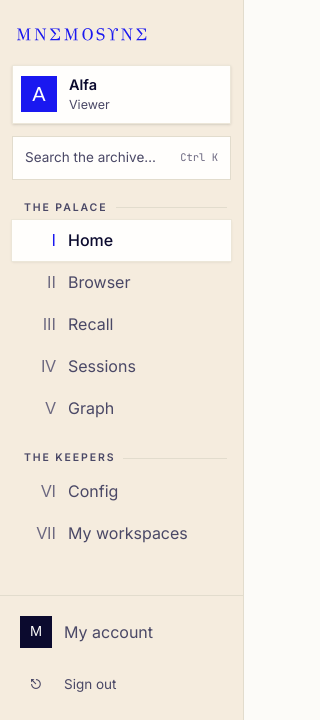
APP-017 signing out goes to the login once the server has closed the session
The image size is (320, 720).
Step 1. Click the button "⎋ Sign out" → (122, 684), box [12,660,231,708]
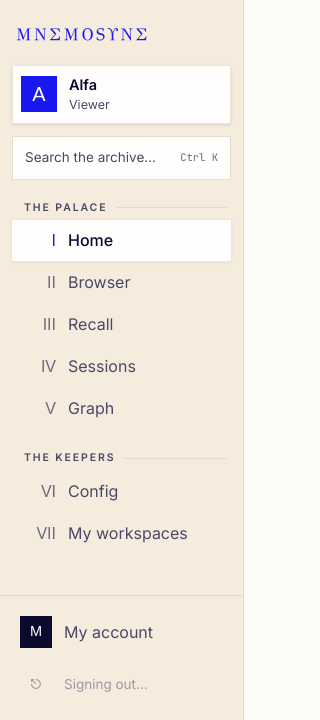
expect the button "⎋ Signing out…" is disabled: met, box [12,660,231,708]
